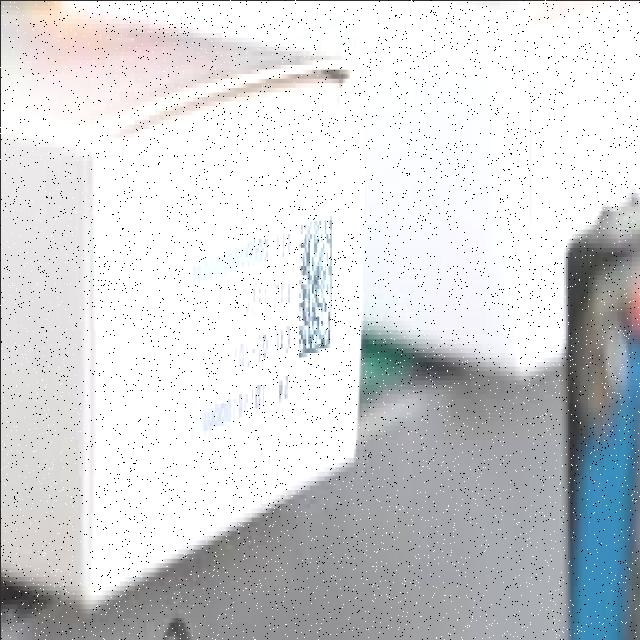datamatrix: (291, 192, 340, 370)
